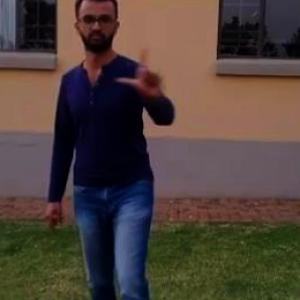land_hand: (115, 41, 173, 110)
